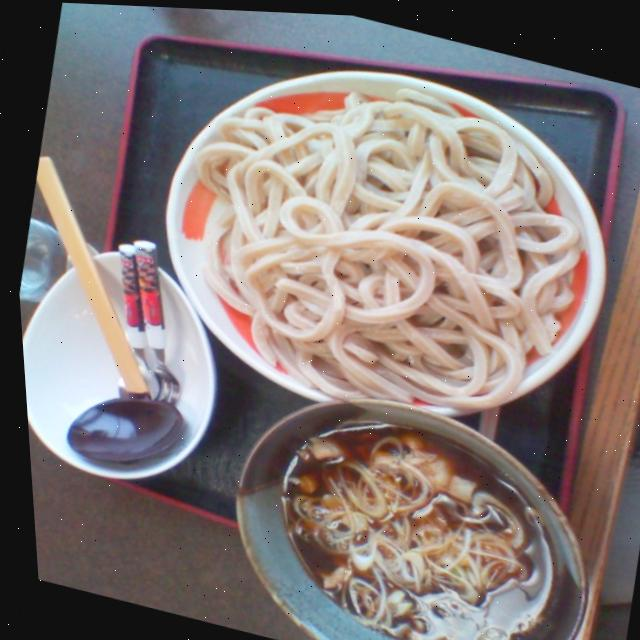面条主食: (157, 34, 627, 441)
